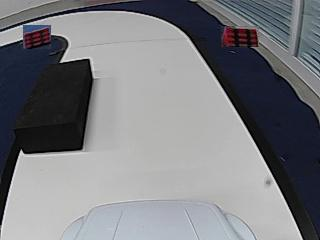block: (18, 59, 90, 153)
